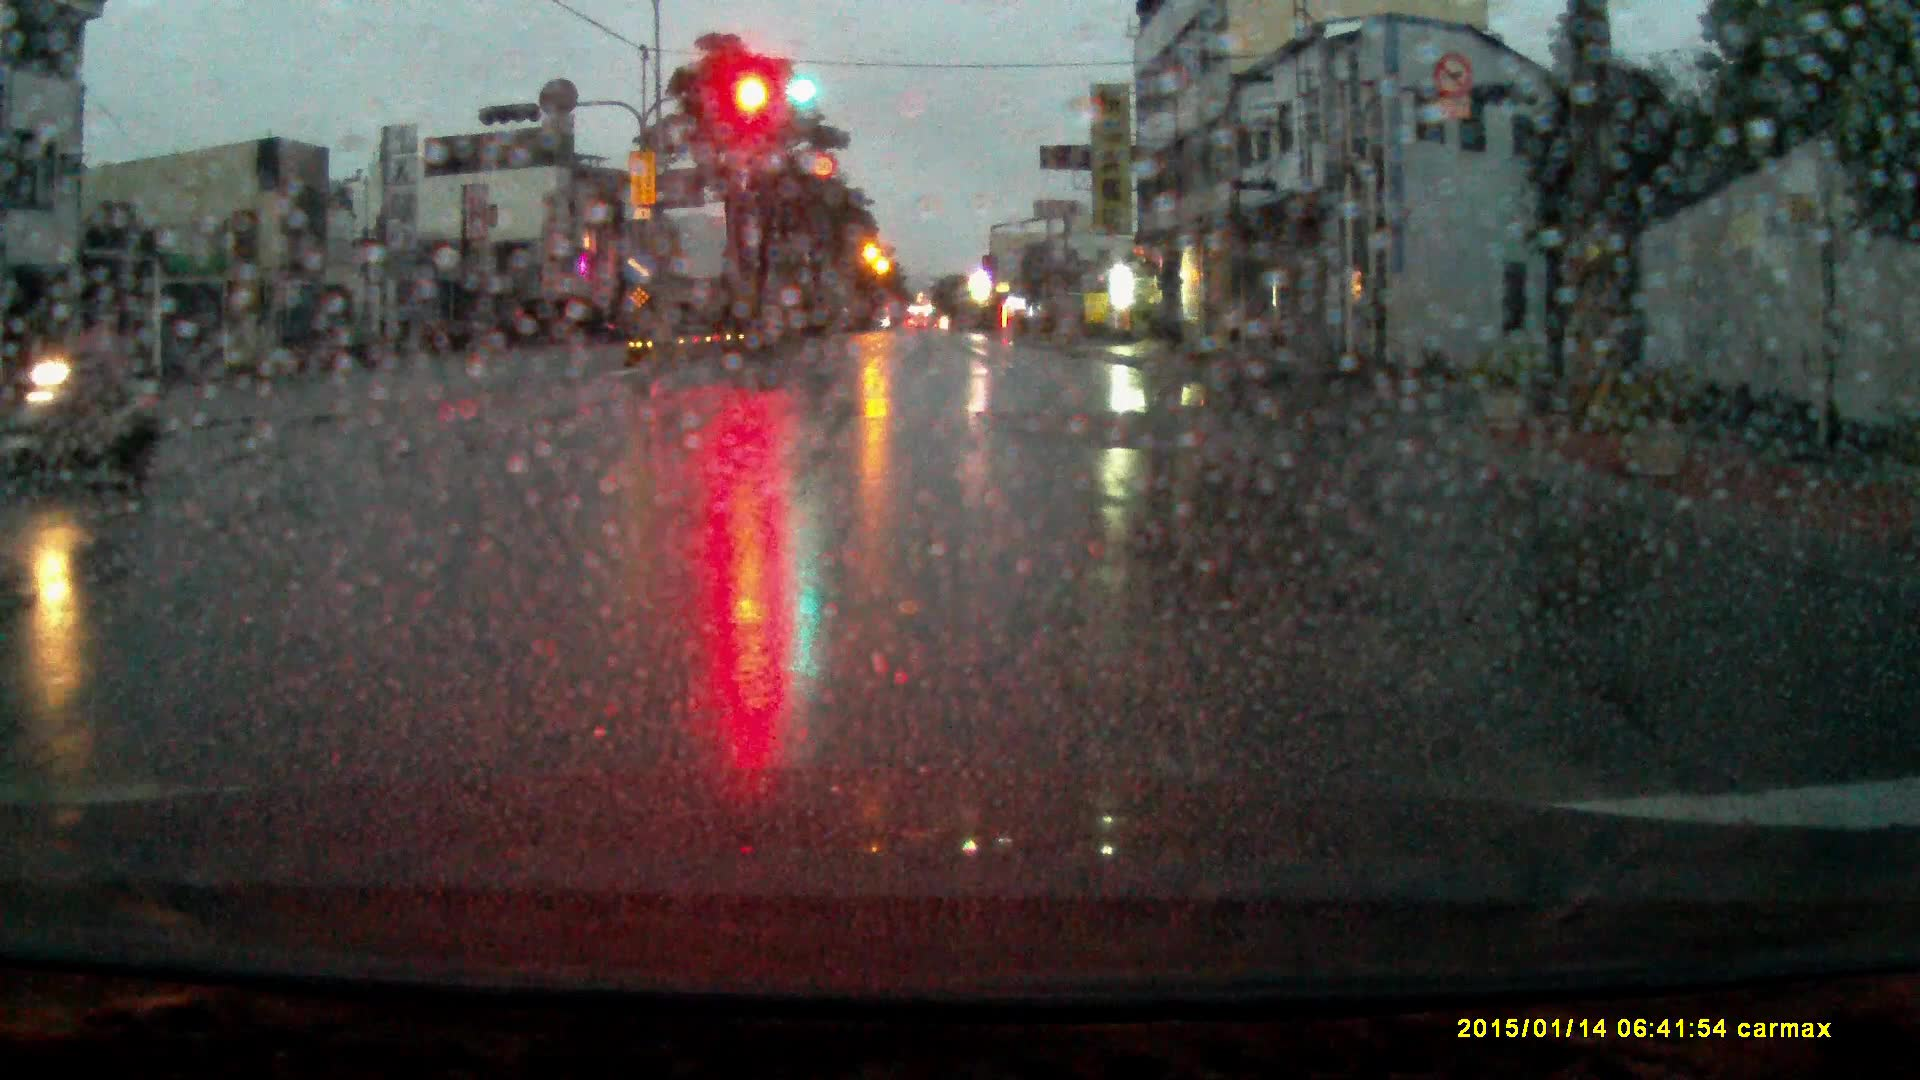rider: (1, 309, 164, 495)
